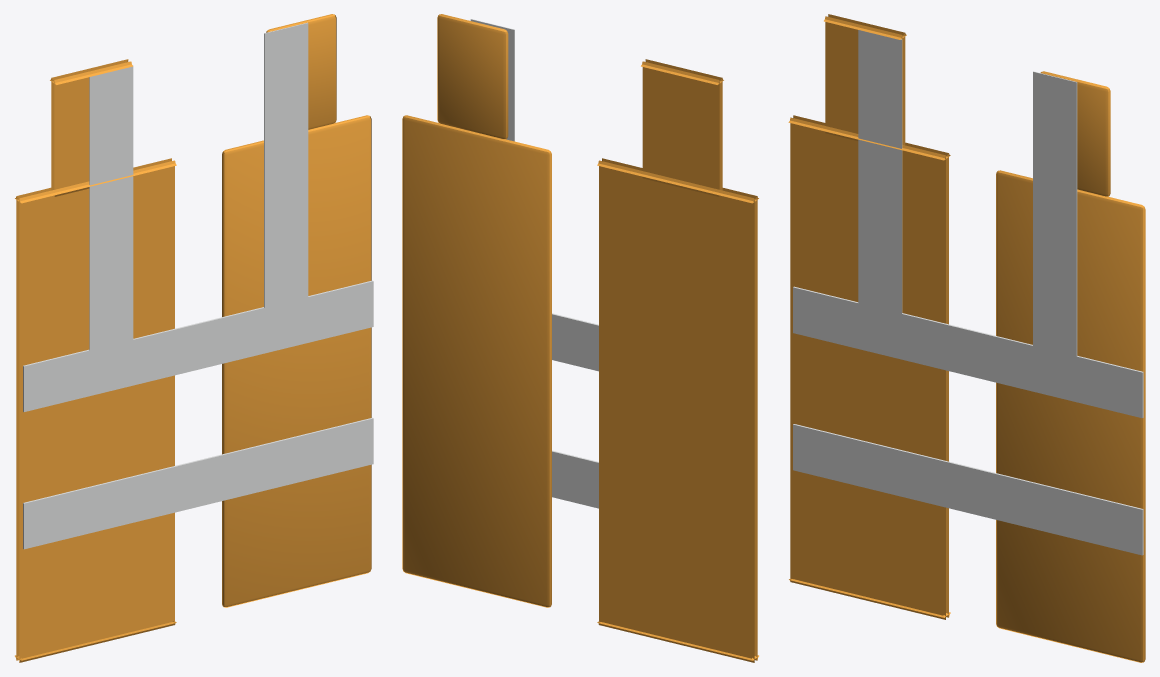
Rendered from SER-EPI-007.glb.
3 renders of one model, left to right at view 1: azimuth 30°, elevation 25°; view 2: azimuth 150°, elevation 25°; view 3: azimuth 330°, elevation 25°, orthographic.
Parts seen in each view (by area): view 1: SER-EPI-007_frente-1, SER-EPI-007_frente1, SER-EPI-007_faixa0, SER-EPI-007_faixa1, SER-EPI-007_faixav1, SER-EPI-007_faixav-1, SER-EPI-007_ombro-1, SER-EPI-007_ombro1; view 2: SER-EPI-007_frente-1, SER-EPI-007_frente1, SER-EPI-007_ombro-1, SER-EPI-007_ombro1, SER-EPI-007_faixa0, SER-EPI-007_faixa1, SER-EPI-007_faixav1; view 3: SER-EPI-007_frente-1, SER-EPI-007_frente1, SER-EPI-007_faixa0, SER-EPI-007_faixa1, SER-EPI-007_faixav1, SER-EPI-007_faixav-1, SER-EPI-007_ombro-1, SER-EPI-007_ombro1.
Boxes of the visible parts, x1,y1,x2,y2 form: SER-EPI-007_frente-1: (15,158,176,662); SER-EPI-007_frente1: (222,115,371,607); SER-EPI-007_faixa0: (23,417,373,549); SER-EPI-007_faixa1: (23,280,373,411); SER-EPI-007_faixav1: (264,22,308,307); SER-EPI-007_faixav-1: (89,65,133,350); SER-EPI-007_ombro-1: (50,59,132,196); SER-EPI-007_ombro1: (266,14,336,130); SER-EPI-007_frente-1: (597,158,758,662); SER-EPI-007_frente1: (402,115,551,607); SER-EPI-007_ombro-1: (641,59,723,196); SER-EPI-007_ombro1: (437,14,508,139); SER-EPI-007_faixa0: (552,450,598,508); SER-EPI-007_faixa1: (552,313,598,371); SER-EPI-007_faixav1: (470,19,514,141); SER-EPI-007_frente-1: (788,115,950,619); SER-EPI-007_frente1: (996,170,1145,662); SER-EPI-007_faixa0: (793,424,1143,555); SER-EPI-007_faixa1: (793,286,1143,418); SER-EPI-007_faixav1: (1033,71,1077,356); SER-EPI-007_faixav-1: (858,30,902,313); SER-EPI-007_ombro-1: (824,14,906,145); SER-EPI-007_ombro1: (1040,71,1110,196).
Size of the model in its own units: 0.404 by 0.628 by 0.014.
